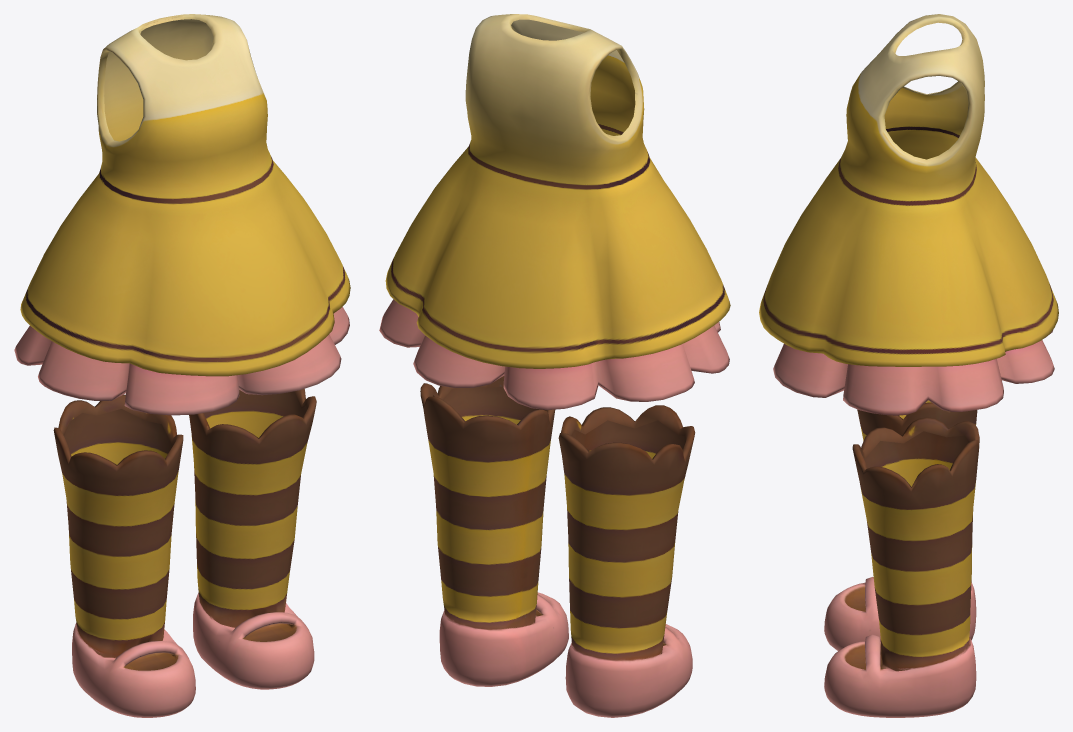
Rendered from butter-clothes.fbx.
3 views of the same model, side by side, from view 1: azimuth 30°, elevation 25°; view 2: azimuth 150°, elevation 25°; view 3: azimuth 270°, elevation 25° (orthographic). The views are drawn at different scales.
Parts seen in each view (by area): view 1: tripo_node_dc51c80e-8128-4dd0-9fb7-ace4c9e9ab28; view 2: tripo_node_dc51c80e-8128-4dd0-9fb7-ace4c9e9ab28; view 3: tripo_node_dc51c80e-8128-4dd0-9fb7-ace4c9e9ab28.
Part boxes in pixels (left/top/right/bottom): tripo_node_dc51c80e-8128-4dd0-9fb7-ace4c9e9ab28: left=14, top=14, right=350, bottom=717; tripo_node_dc51c80e-8128-4dd0-9fb7-ace4c9e9ab28: left=379, top=14, right=730, bottom=717; tripo_node_dc51c80e-8128-4dd0-9fb7-ace4c9e9ab28: left=759, top=14, right=1058, bottom=717.
Bounding box in the file's own units: 0.4946 × 0.9995 × 0.4272.
1 material, 1 textured.
